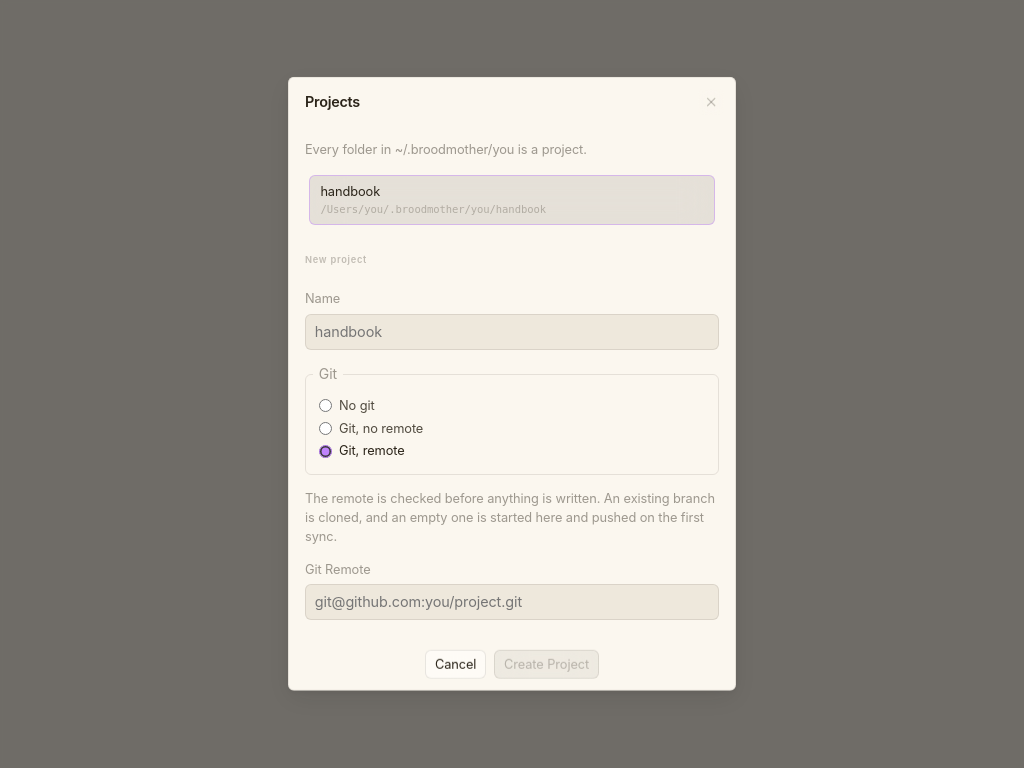
it: creates a project with the git remote it was given, and turns sync on
The image size is (1024, 768).
Expected: the field labelled "Git Remote" is shown, [305, 584, 719, 620]
Type "fresh" into the field labelled "Name" at [512, 332], box [305, 314, 719, 349]
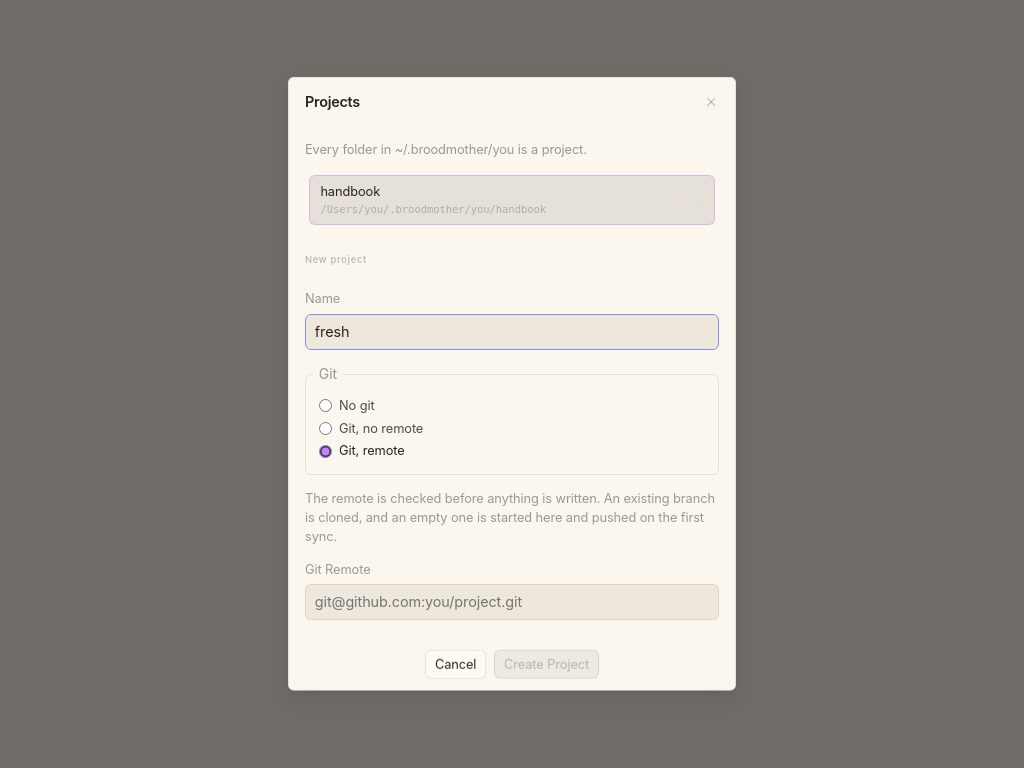
Type "git@github.com:you/fresh.git" into the field labelled "Git Remote" at [512, 602], box [305, 584, 719, 620]
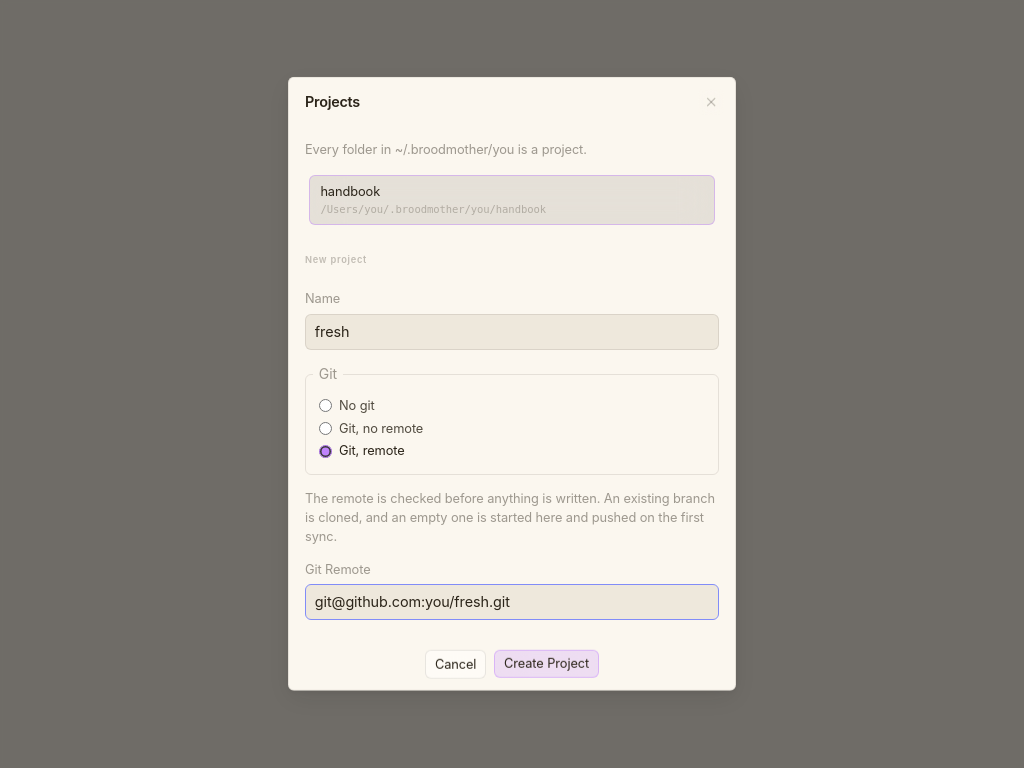
Click the button "Create Project" at [546, 664], box [494, 649, 599, 678]
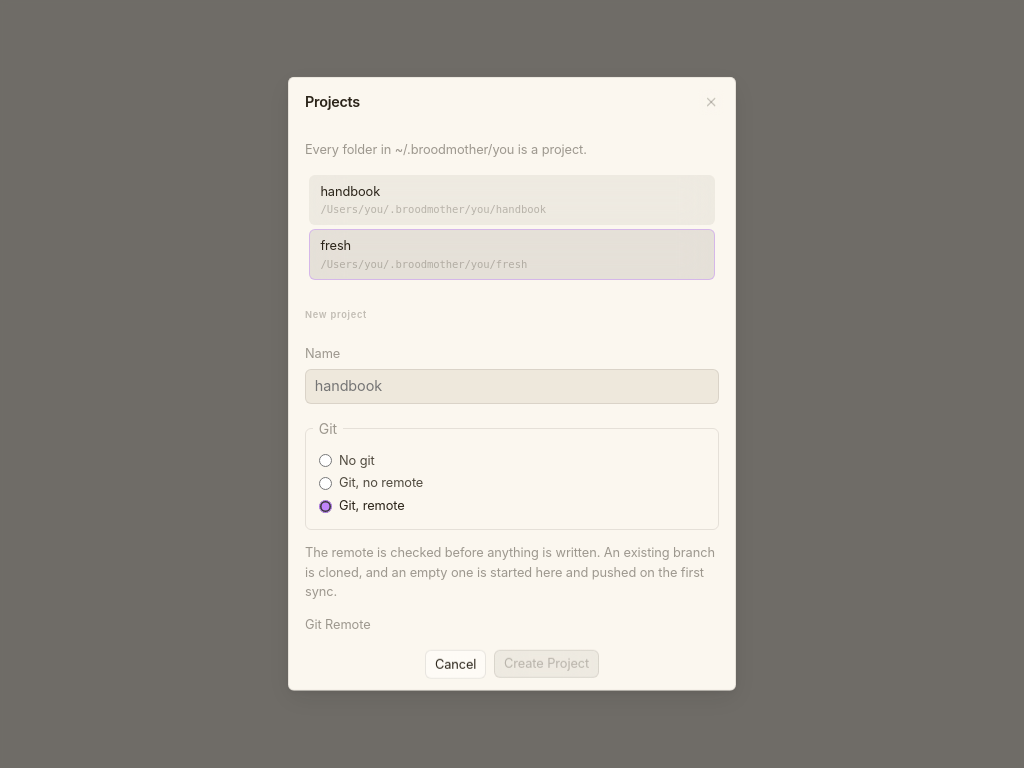
Result: the text "fresh" is shown at [320, 238, 351, 255]
